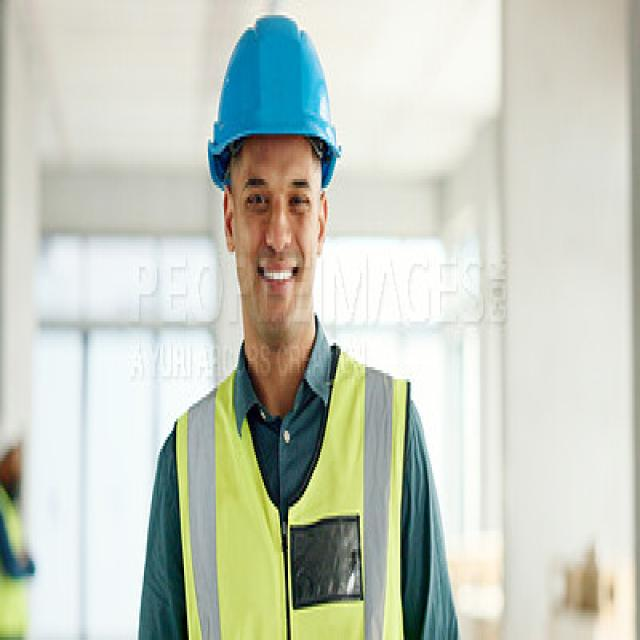helmet: (210, 22, 334, 172)
no-goggles: (230, 161, 324, 230)
vest: (171, 340, 414, 640)
